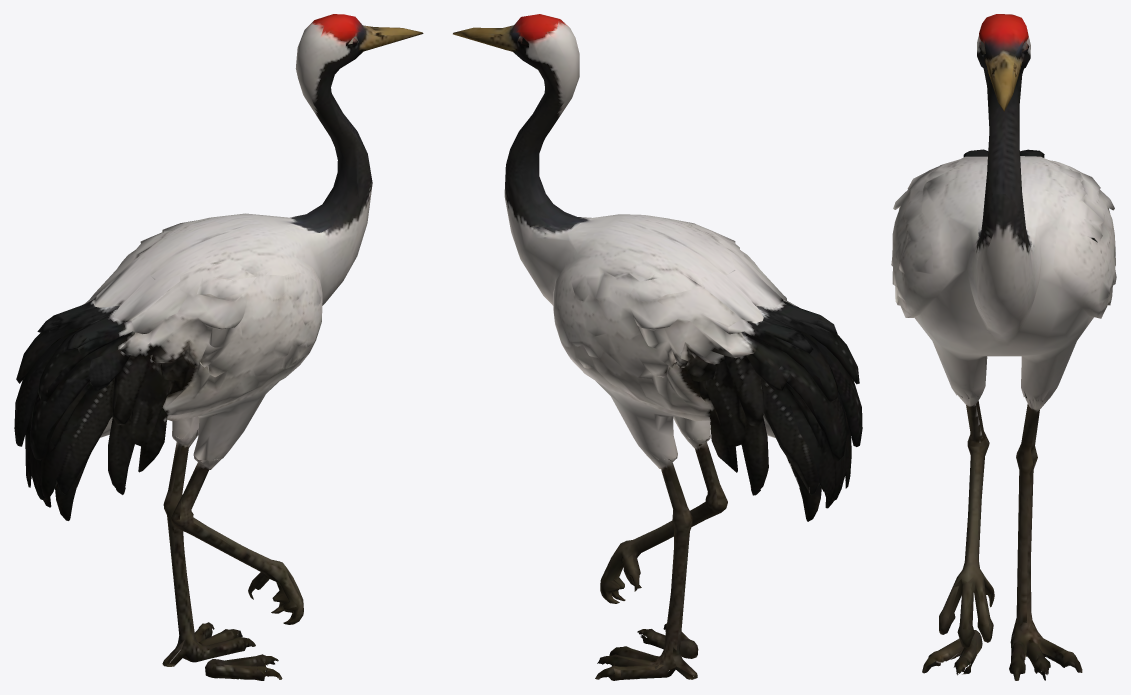
The model's file is xianhe.glb.
3 views of the same model, side by side, from view 1: azimuth 30°, elevation 25°; view 2: azimuth 150°, elevation 25°; view 3: azimuth 270°, elevation 25° (orthographic). The views are drawn at different scales.
Parts seen in each view (by area): view 1: 仙鹤; view 2: 仙鹤; view 3: 仙鹤.
Boxes of the visible parts, bbox=[...] form: 仙鹤: bbox=[14, 14, 423, 680]; 仙鹤: bbox=[453, 14, 862, 680]; 仙鹤: bbox=[891, 14, 1116, 680].
Size of the model in its own units: 0.8829 by 1.3 by 0.3769.
Materials: 1 (1 with a texture image).
